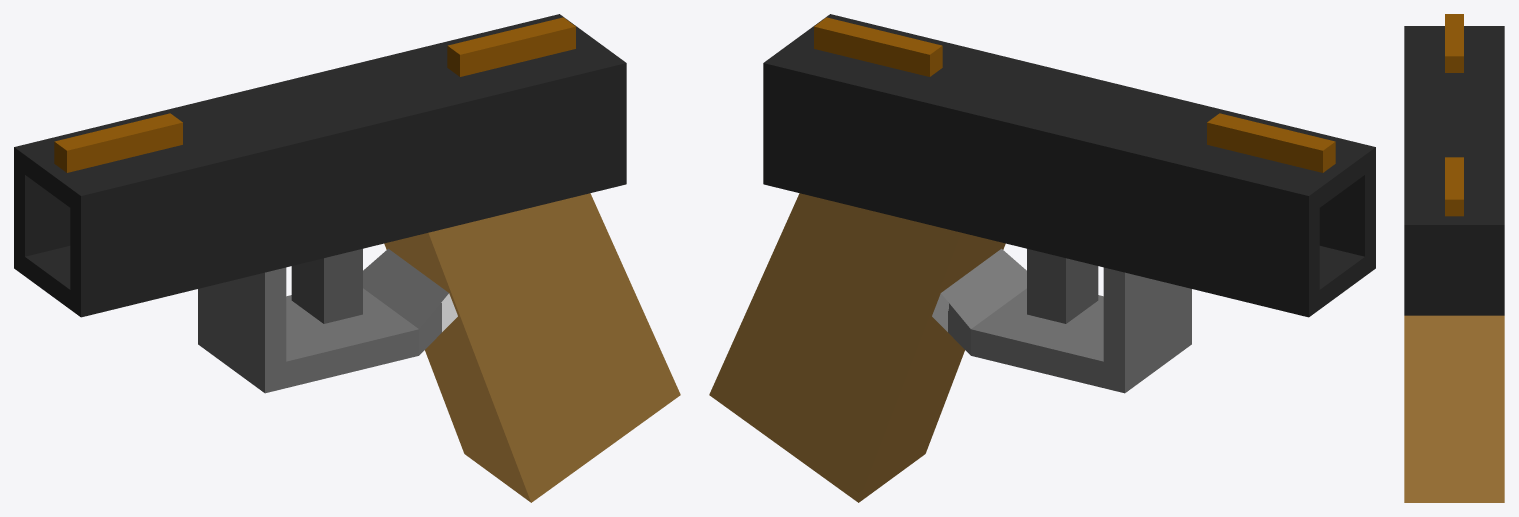
Rendered from Pistol.glb.
3 renders of one model, left to right at view 1: azimuth 30°, elevation 25°; view 2: azimuth 150°, elevation 25°; view 3: azimuth 270°, elevation 25°, orthographic. The views are drawn at different scales.
Parts seen in each view (by area): view 1: pistol; view 2: pistol; view 3: pistol.
Boxes of the visible parts, bbox=[...] form: pistol: bbox=[14, 14, 680, 502]; pistol: bbox=[709, 14, 1375, 502]; pistol: bbox=[1404, 14, 1504, 502].
Bounding box in the file's own units: 5.17 × 3.62 × 1.
1 material, 1 textured.
